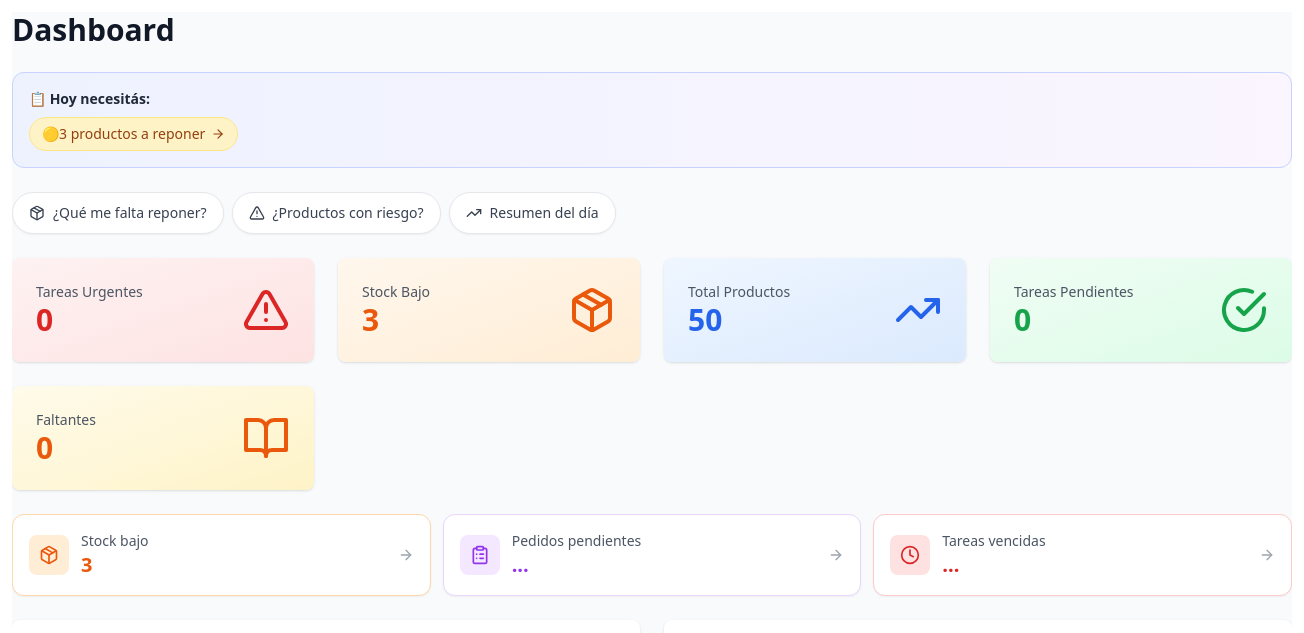
Dashboard › V2-08: clicking reponer chip shows stock bajo info with CTA
What coordinates should you click on to do the following:
click the button "¿Qué me falta reponer?"
I would click on:
 (118, 213)
Its box is [12,192,224,234].
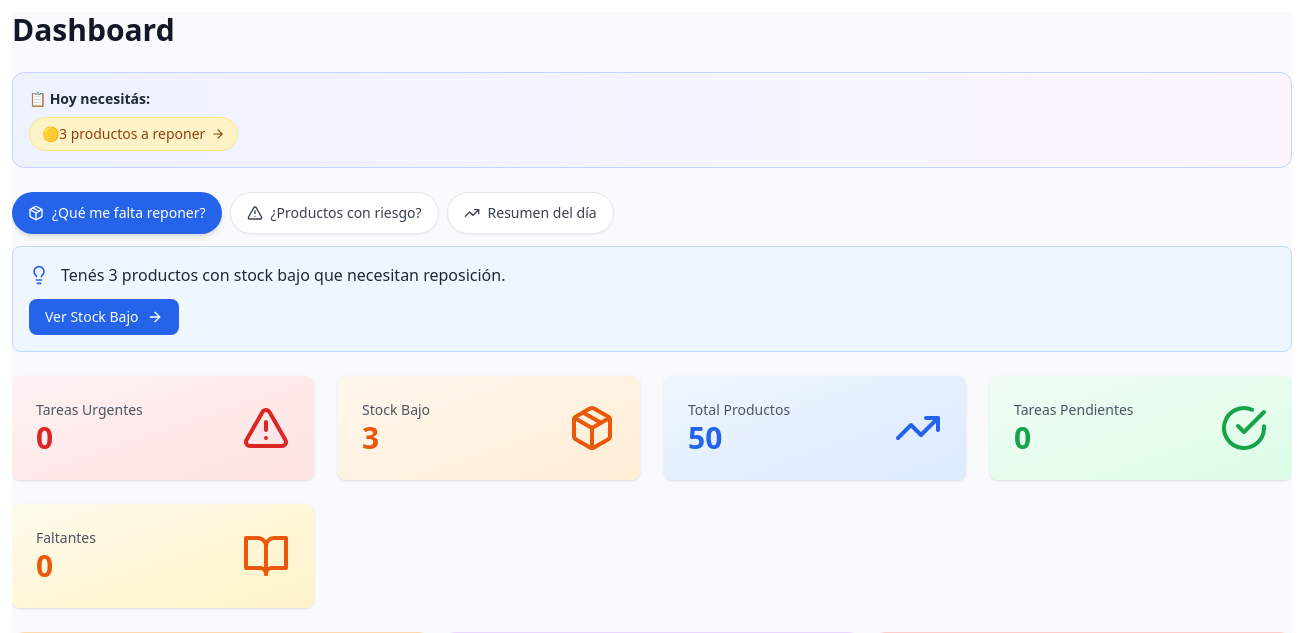
Now the text "Tenés 3 productos con stock bajo que necesitan reposición." is shown, box [61,263,506,287]
Now the link "Ver Stock Bajo" is shown, box [29,299,178,335]
